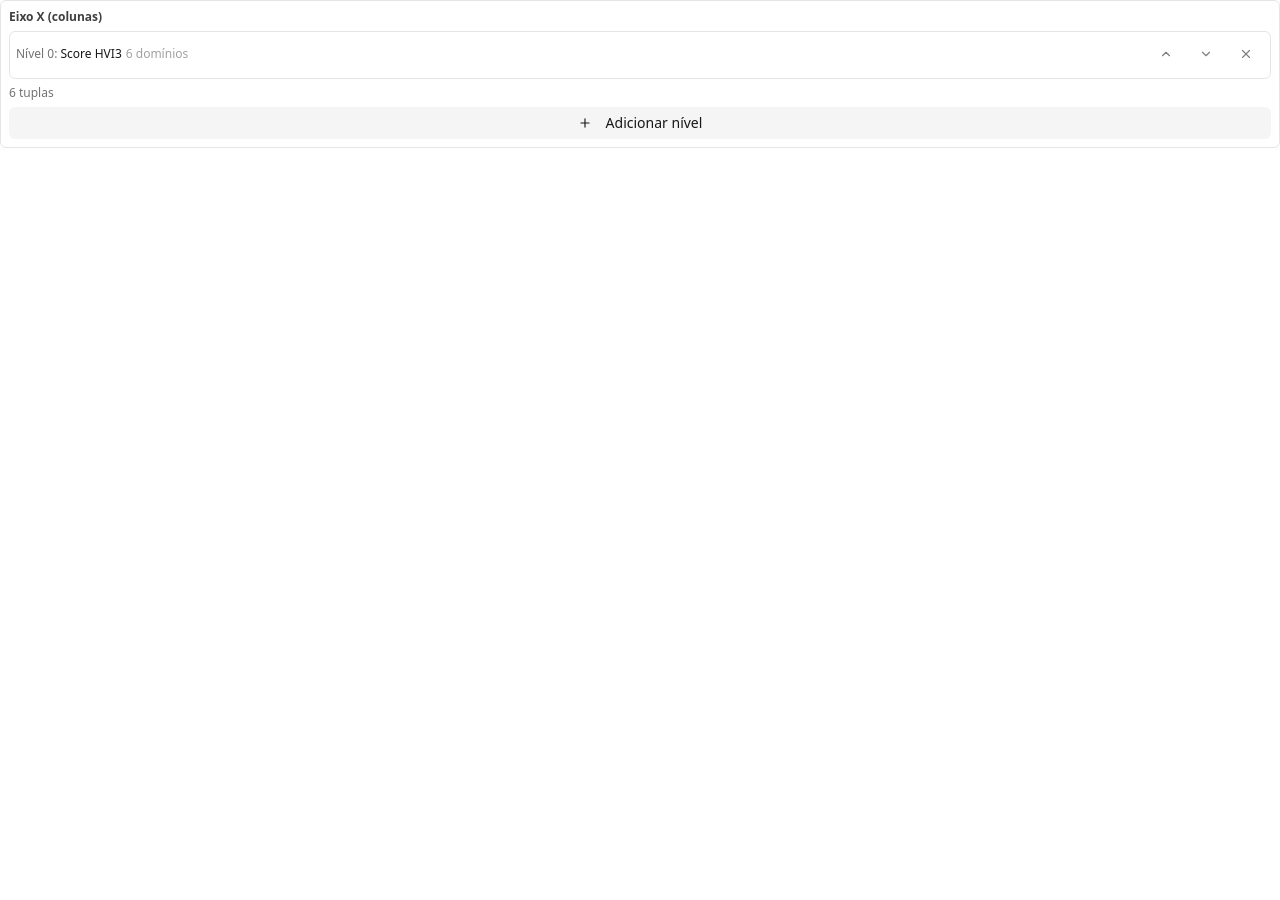
Test: AxisEditor › adicionar nível só aplica depois do preview, e o preview conta o impacto
The width and height of the screenshot is (1280, 900).
Click the button "Adicionar nível" at (640, 123), box x1=9 y1=107 x2=1271 y2=139
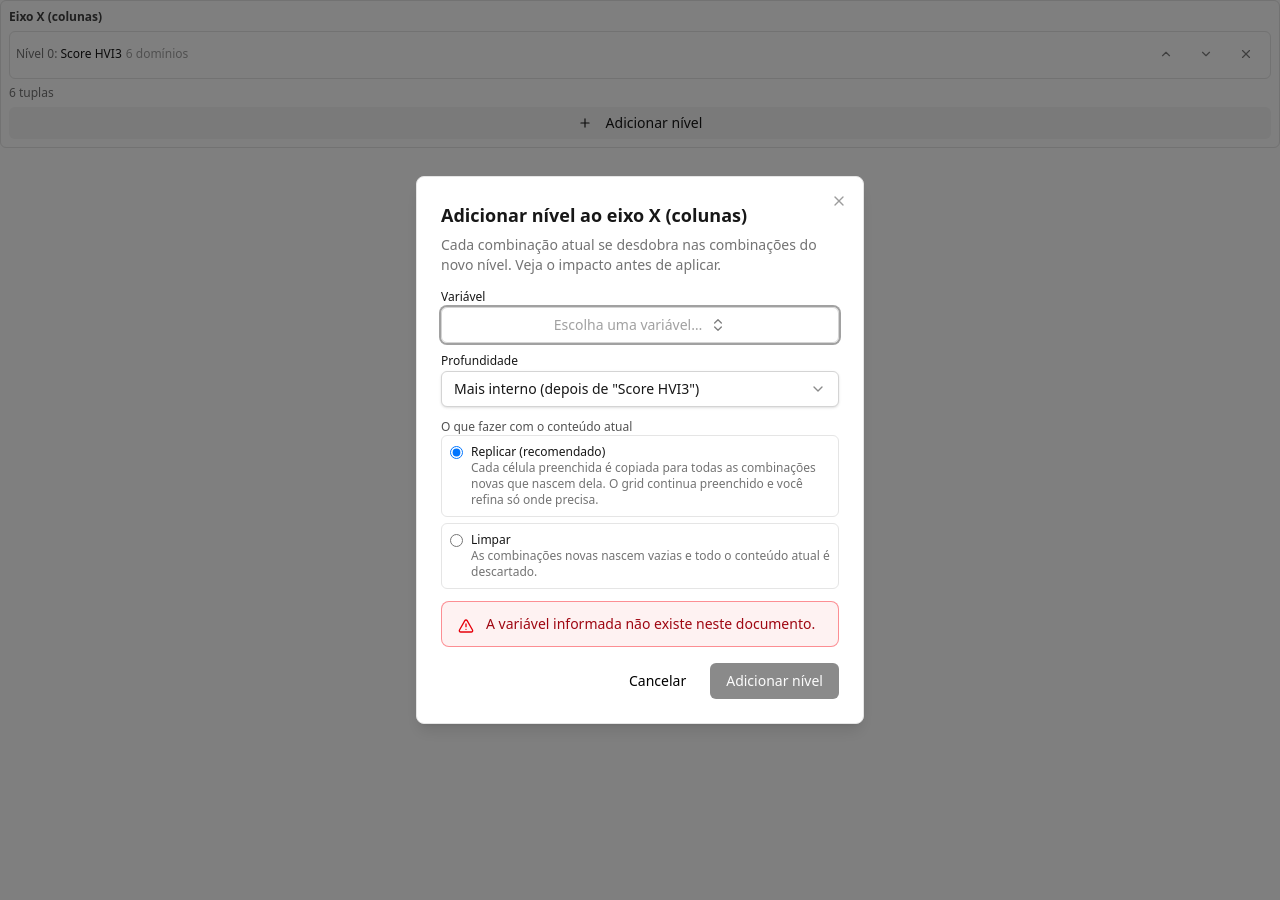
Now the button "Adicionar nível" is disabled, box x1=710 y1=663 x2=839 y2=699
Click the dropdown labelled "Escolha uma variável…" at (640, 325), box x1=441 y1=307 x2=839 y2=343
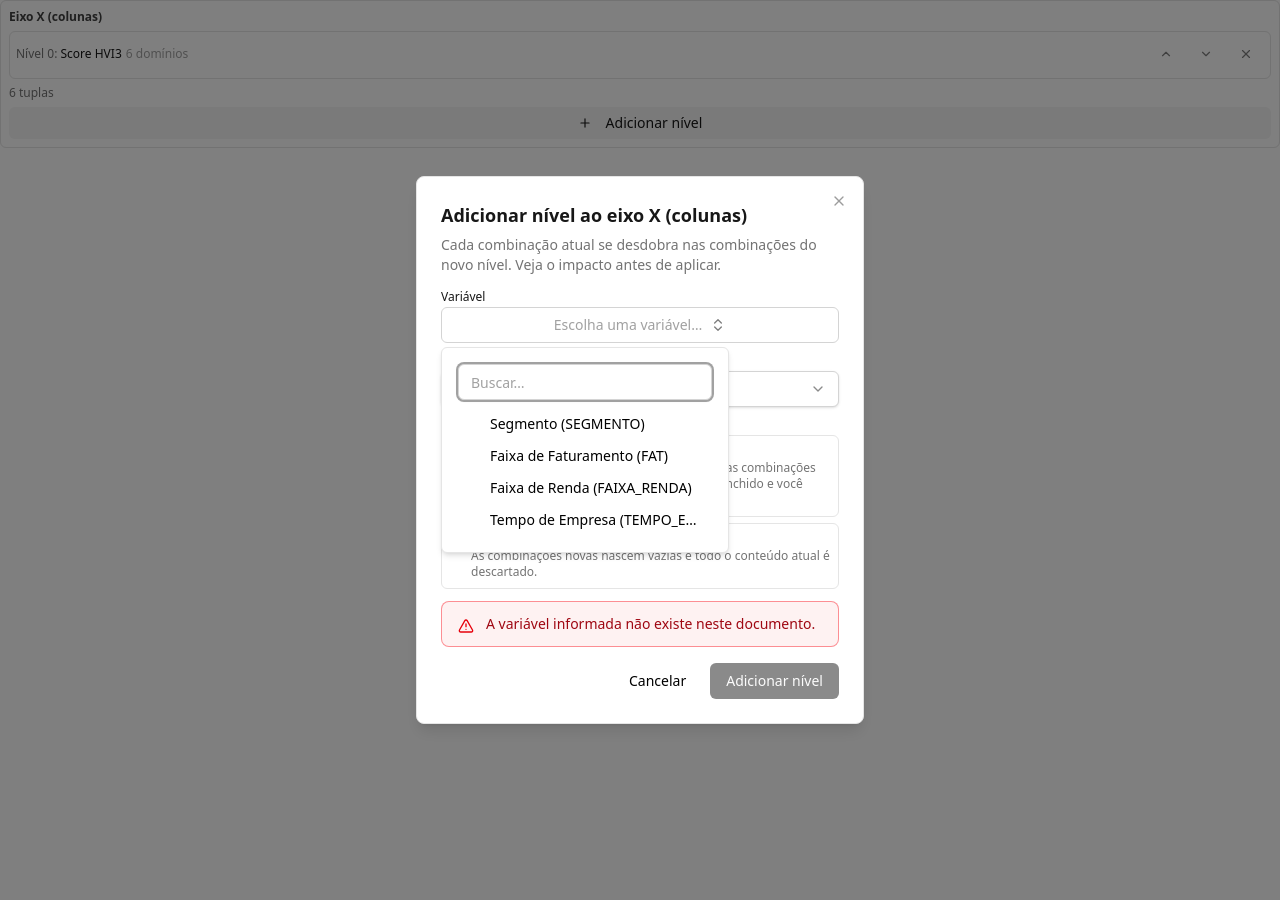
Click the option "Tempo de Empresa (TEMPO_EMPRESA)" at (585, 520), box x1=458 y1=504 x2=712 y2=536
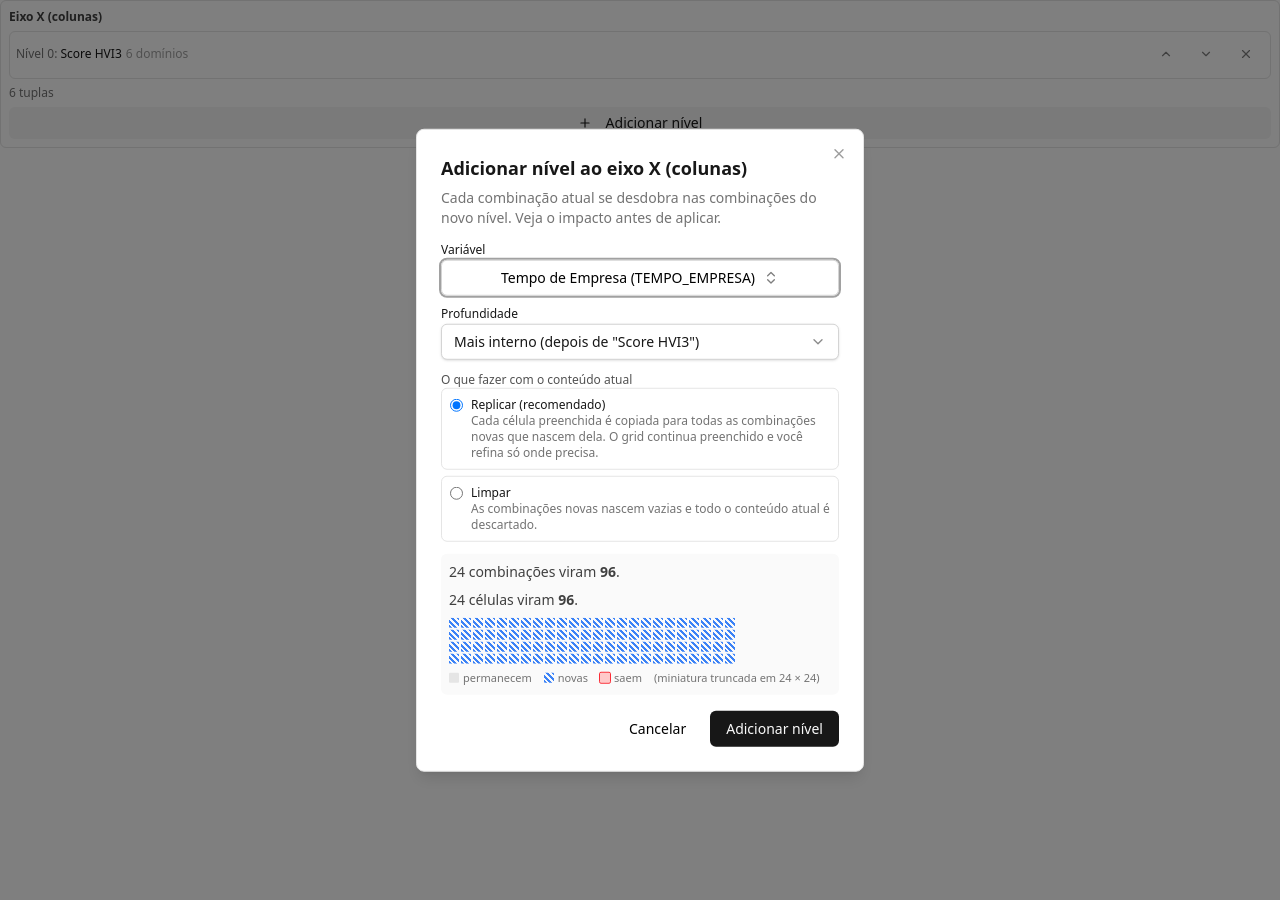
Now the element with test id "add-level-preview" shows "24 combinações viram 96", box x1=441 y1=554 x2=839 y2=694
Now the element with test id "grid-miniature" is shown, box x1=449 y1=618 x2=831 y2=686
Click the button "Adicionar nível" at (775, 728), box x1=710 y1=710 x2=839 y2=746
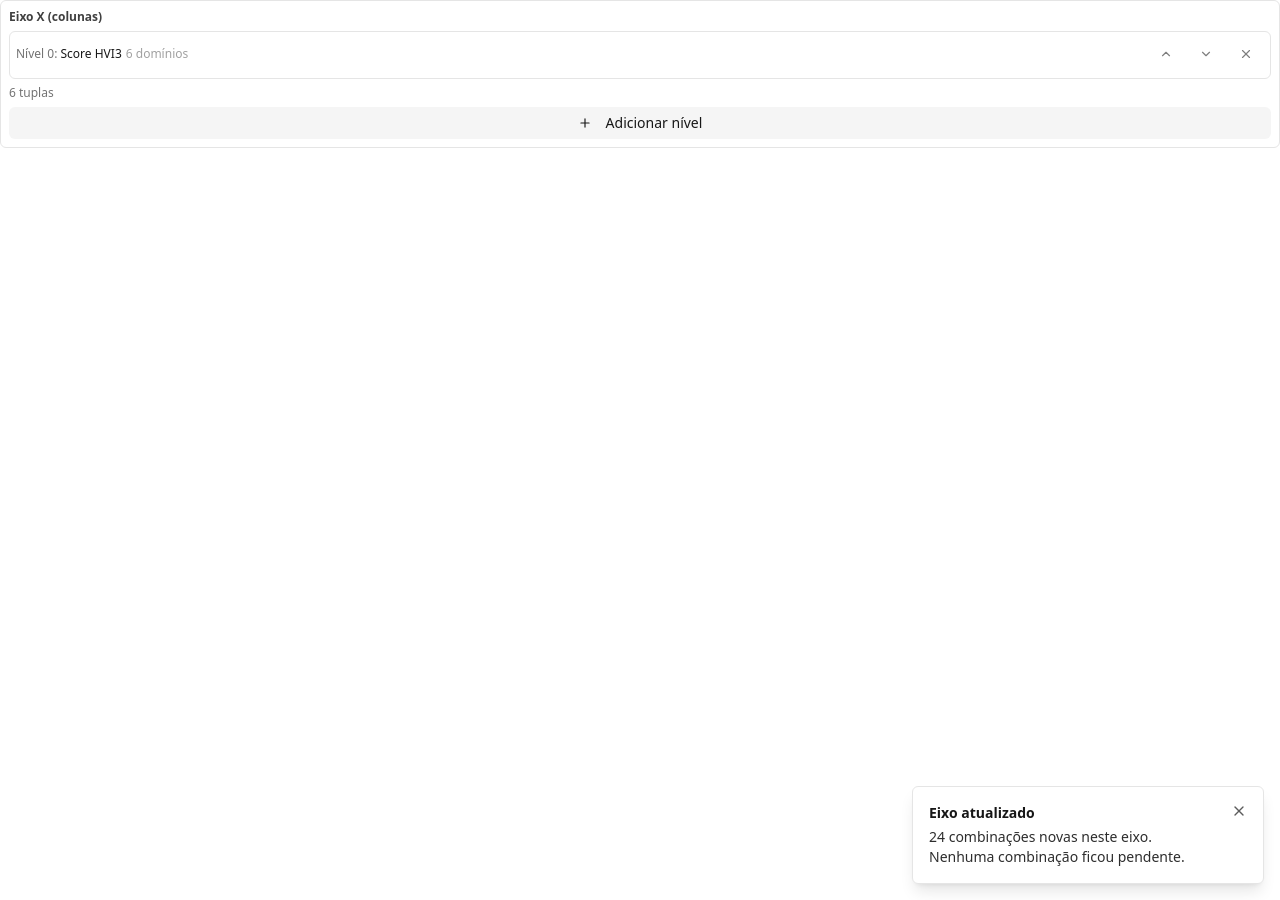
Now the text "Nenhuma combinação ficou pendente" is shown, box x1=929 y1=827 x2=1185 y2=866
